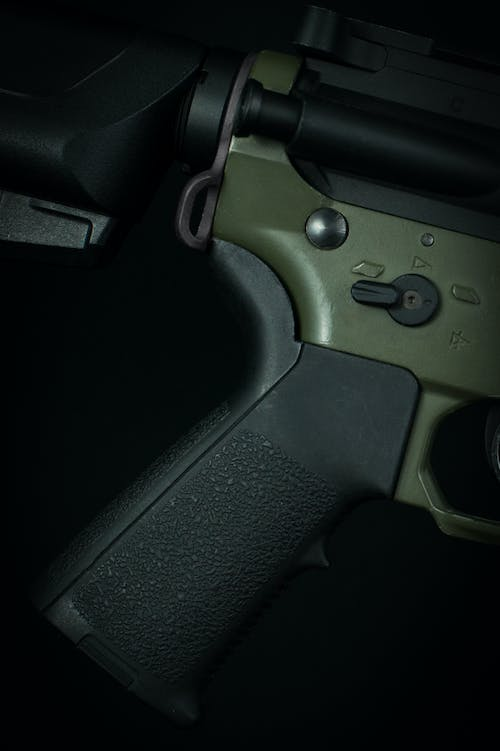gun: (0, 0, 500, 727)
